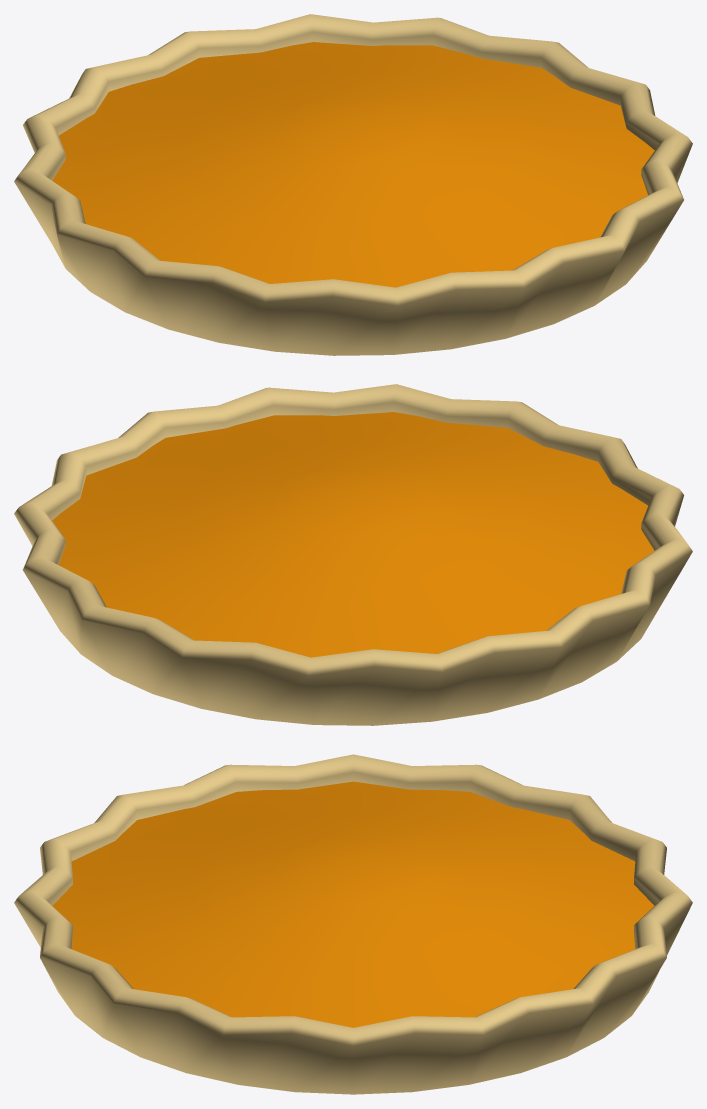
The model's file is Open_Pie_UVed.fbx.
3 views of the same model, one above another, from view 1: azimuth 30°, elevation 25°; view 2: azimuth 150°, elevation 25°; view 3: azimuth 270°, elevation 25° (orthographic).
Parts seen in each view (by area): view 1: pasted__pCylinder28, pCylinder25; view 2: pasted__pCylinder28, pCylinder25; view 3: pasted__pCylinder28, pCylinder25.
Part boxes in pixels (<box>): pasted__pCylinder28: <box>52,42,654,287</box>; pCylinder25: <box>14,14,692,355</box>; pasted__pCylinder28: <box>52,412,654,657</box>; pCylinder25: <box>14,384,692,725</box>; pasted__pCylinder28: <box>52,781,654,1027</box>; pCylinder25: <box>14,754,692,1094</box>.
Bounding box in the file's own units: 20.26 × 3.32 × 20.26.
